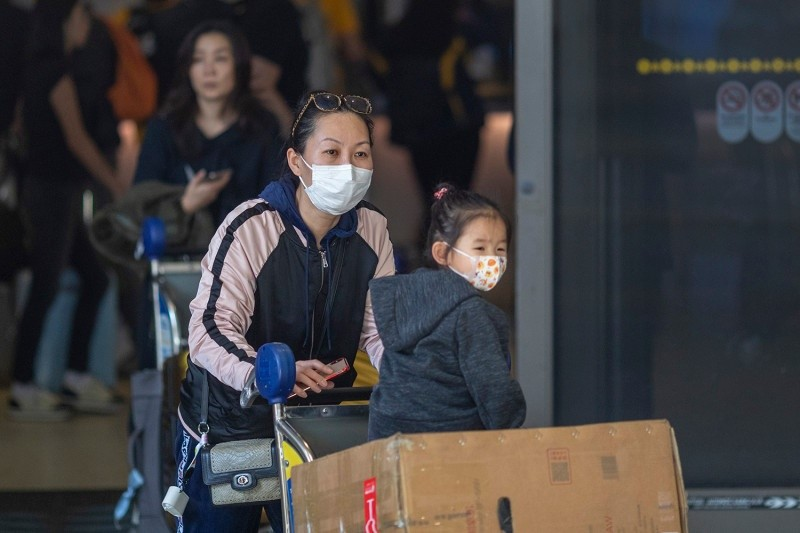face_no_mask: (186, 27, 249, 102)
face_with_mask: (288, 88, 380, 220), (427, 185, 514, 293)
